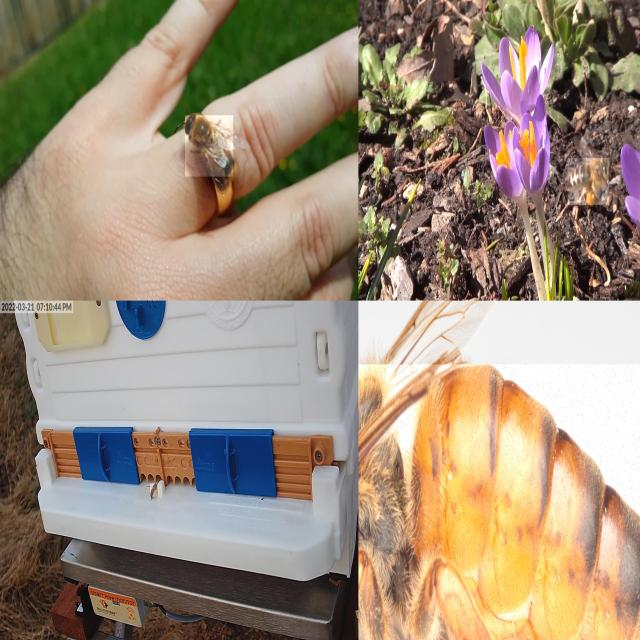honeybee: (356, 305, 632, 636), (186, 118, 236, 178)
